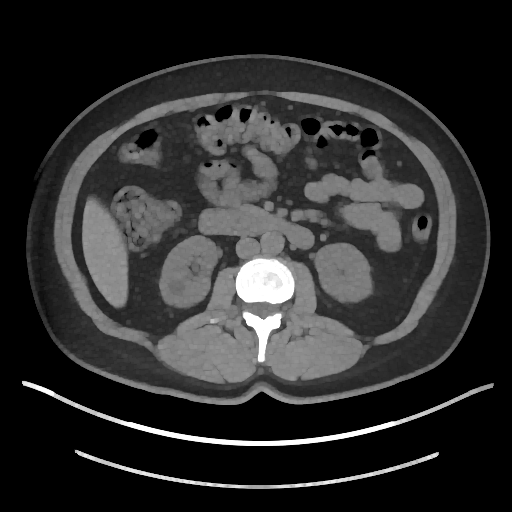Lesion: (164, 277, 187, 298)
